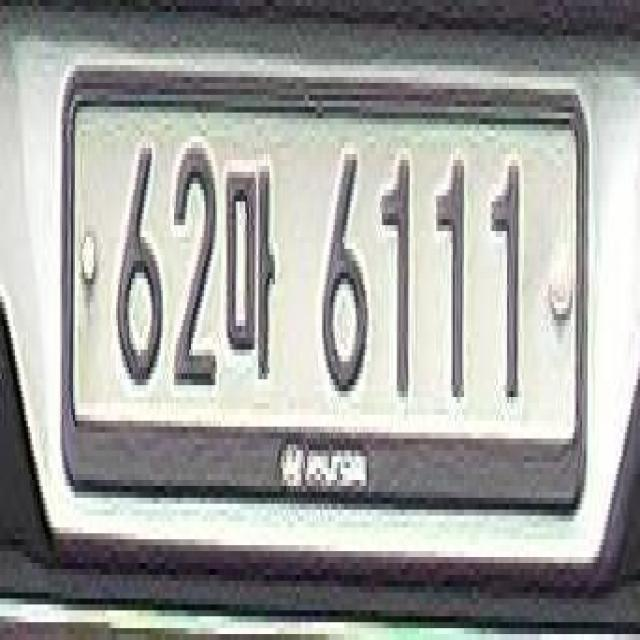1: (428, 142, 476, 409), (484, 140, 532, 407), (377, 138, 422, 409)
2: (168, 143, 220, 399)
6: (108, 140, 165, 390), (320, 136, 370, 402)
license_plate: (51, 38, 600, 530)
ma: (224, 146, 282, 398)
